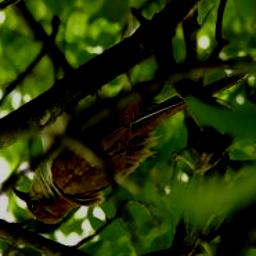Cuckoo: (11, 68, 252, 228)
